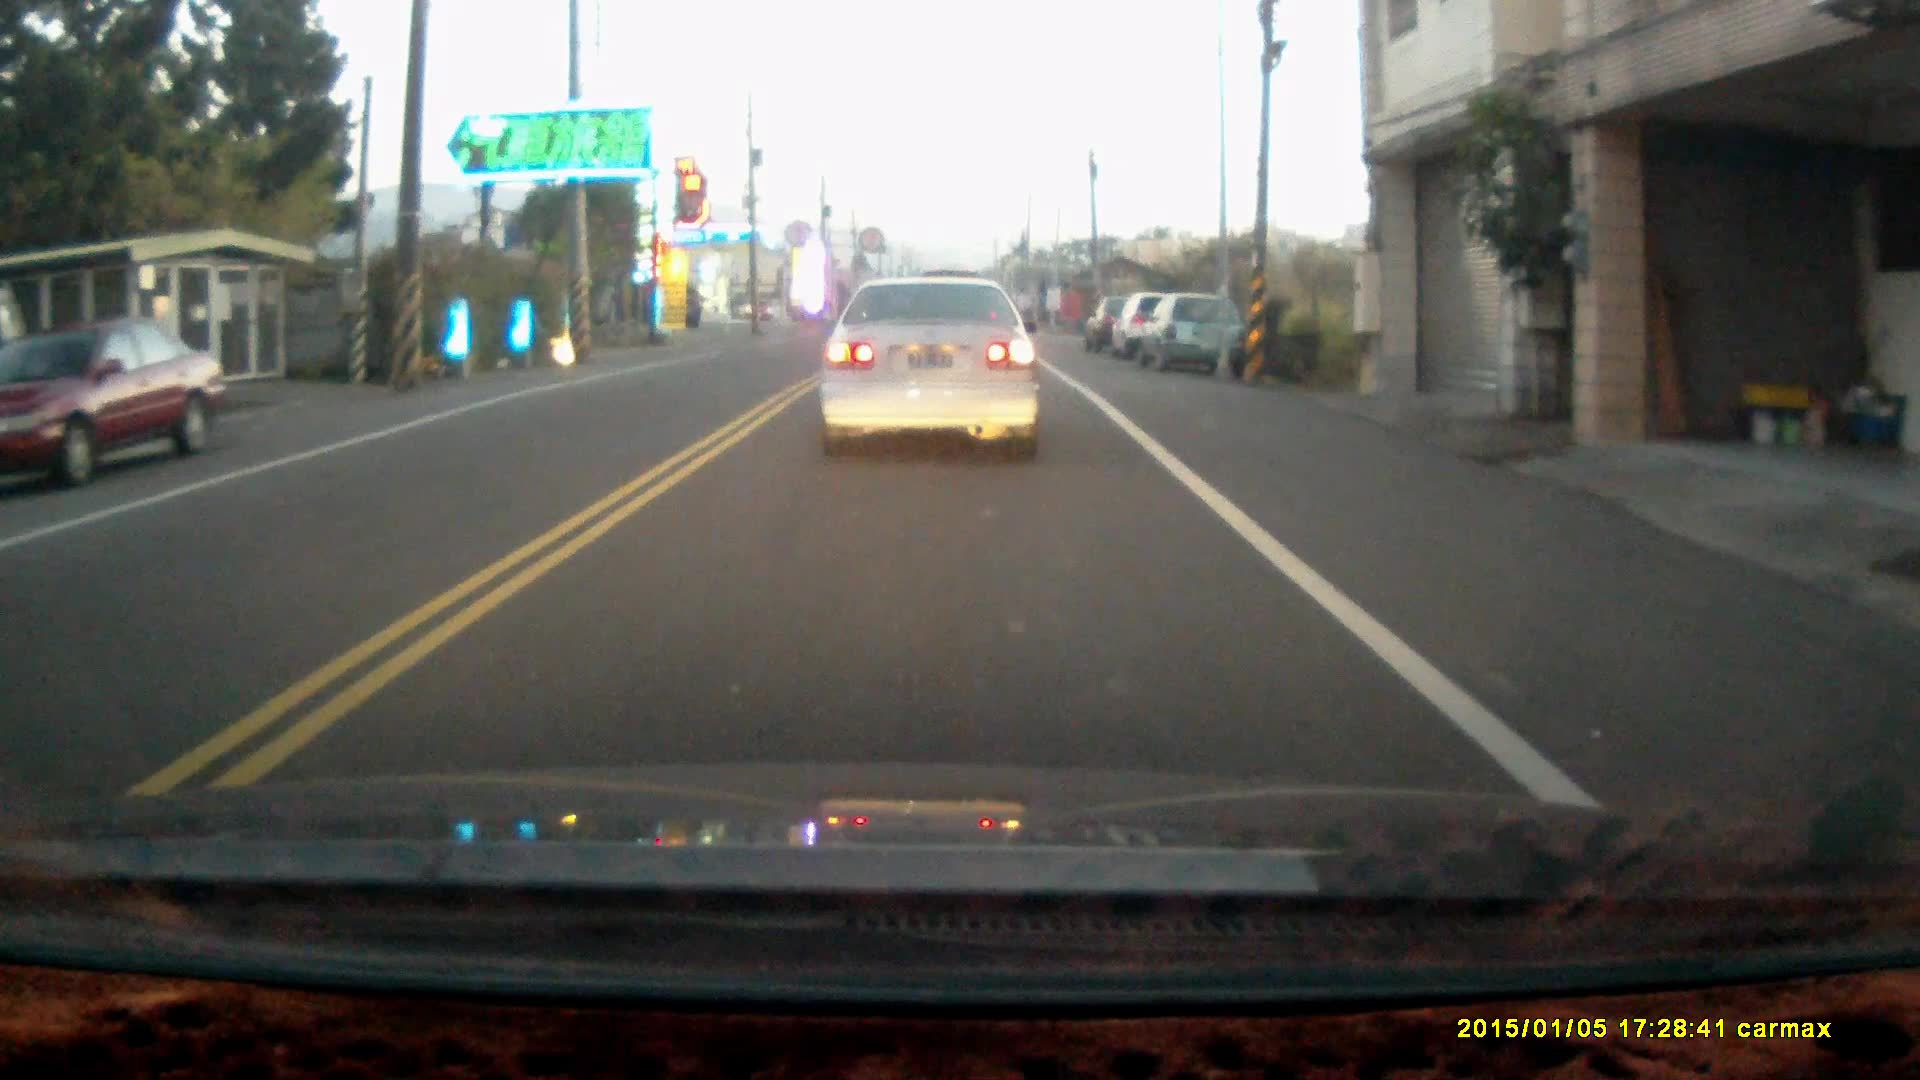vehicle: (818, 272, 1044, 460), (1, 318, 233, 487), (1138, 293, 1245, 378), (1116, 293, 1203, 361), (1084, 287, 1168, 356)
